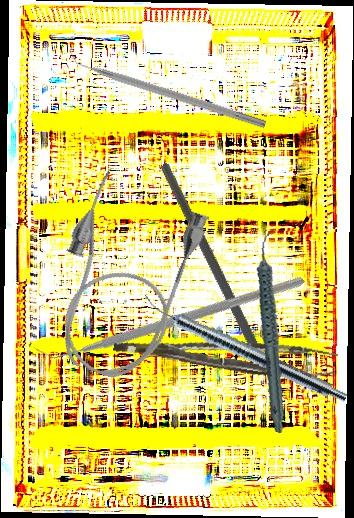Cannula: (31, 166, 215, 392)
Chopper: (33, 174, 305, 454), (80, 162, 351, 413), (65, 45, 270, 129)
Handpiece: (138, 292, 351, 406), (231, 230, 316, 434)
Tissue Forceps: (112, 314, 339, 390)
